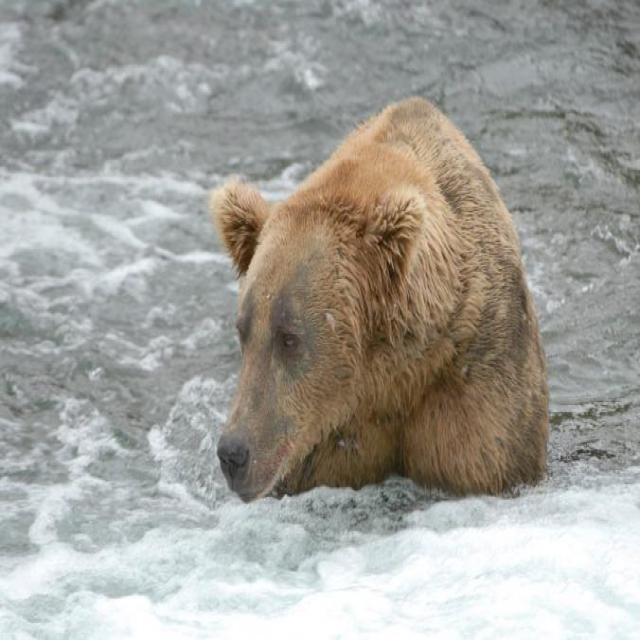Bear: (208, 96, 551, 505)
